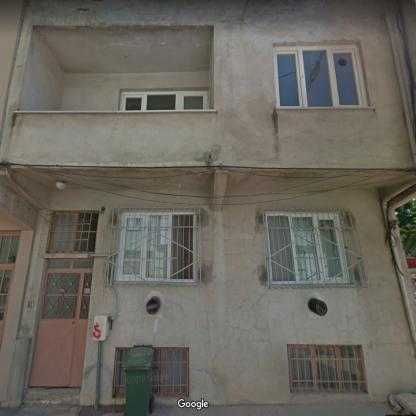door: (29, 270, 92, 386), (0, 268, 12, 341)
window: (266, 213, 349, 284), (274, 46, 367, 108), (116, 212, 195, 281), (288, 346, 364, 392), (48, 212, 98, 252), (152, 348, 188, 396), (119, 91, 208, 110), (113, 349, 128, 396), (1, 233, 20, 266), (48, 260, 93, 268)
